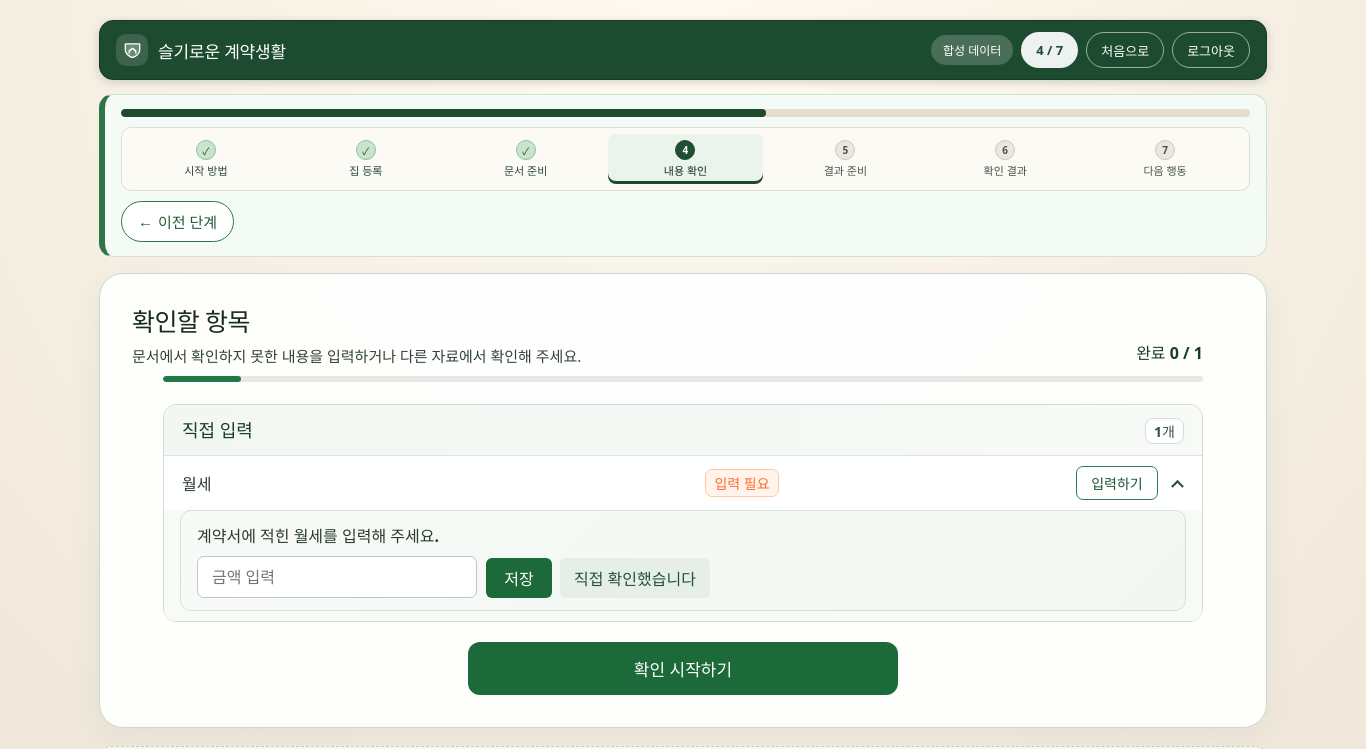
Test case: ExtractionReviewPage › lets the user enter an unread value and keeps contract context separate
Check: the button "월세 입력 필요 입력하기" is shown, box [164, 456, 1202, 510]
Check: the text "계약서에 적힌 월세를 입력해 주세요." is shown, box [197, 525, 439, 547]
Type "350000" into the field labelled "계약서에 적힌 월세를 입력해 주세요." at (337, 577), box [197, 556, 477, 598]
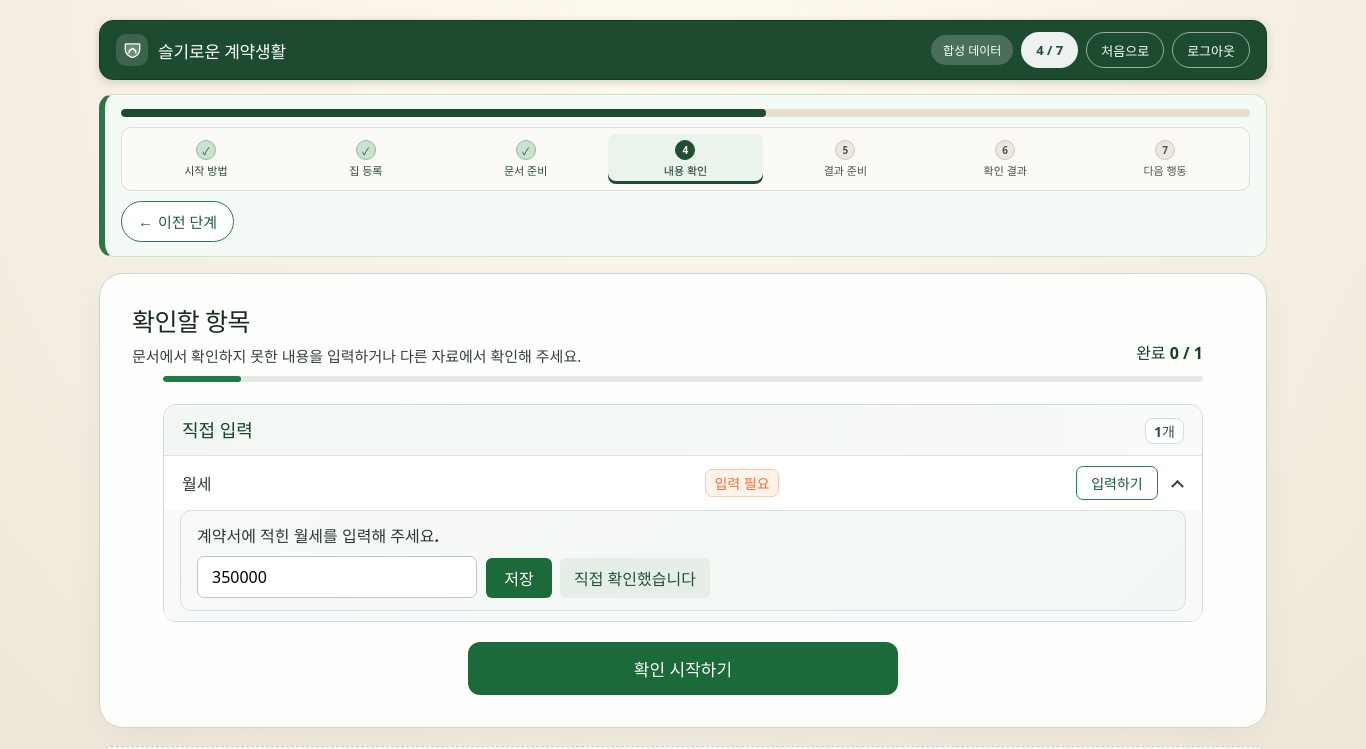
Click the button "직접 확인했습니다" at (635, 578), box [560, 558, 710, 598]
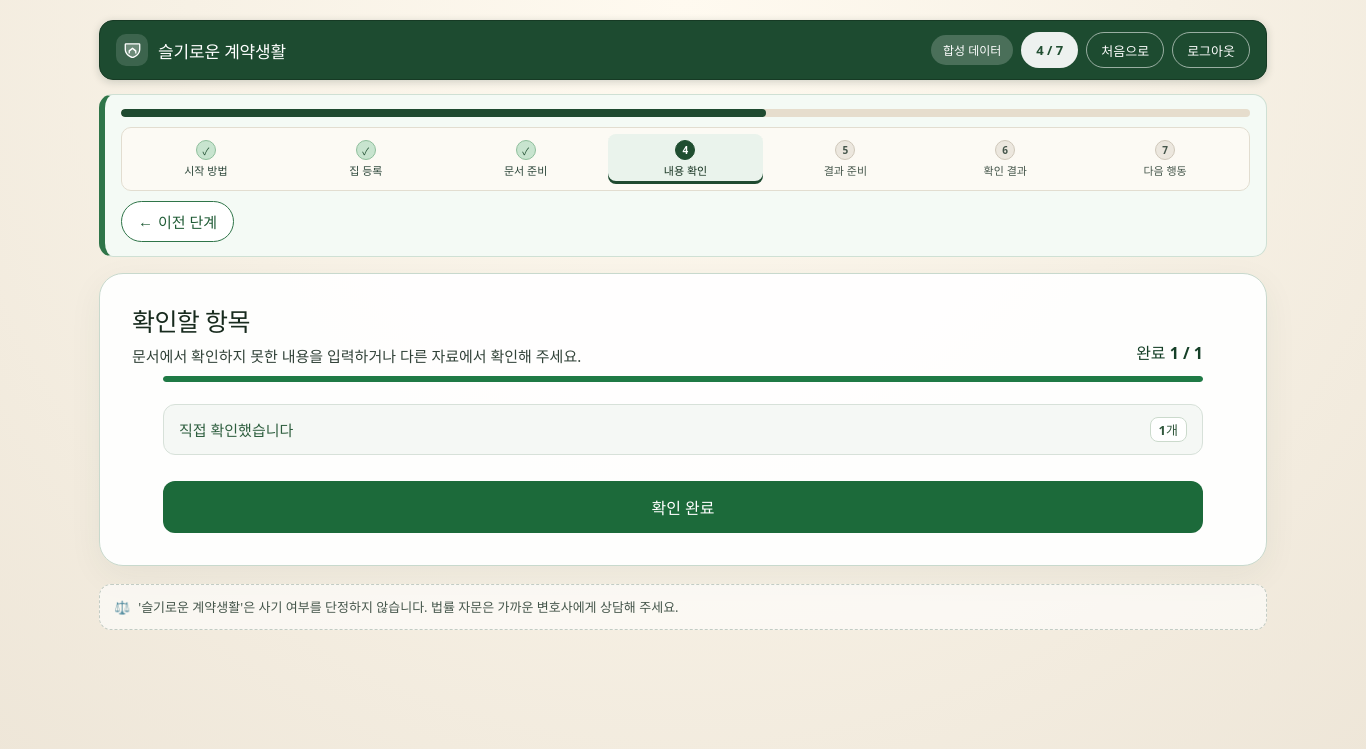
Check: the text "직접 확인했습니다" is shown, box [179, 419, 293, 440]
Check: the button "확인 완료" is enabled
Click the button "확인 완료" at (683, 507), box [163, 481, 1203, 533]
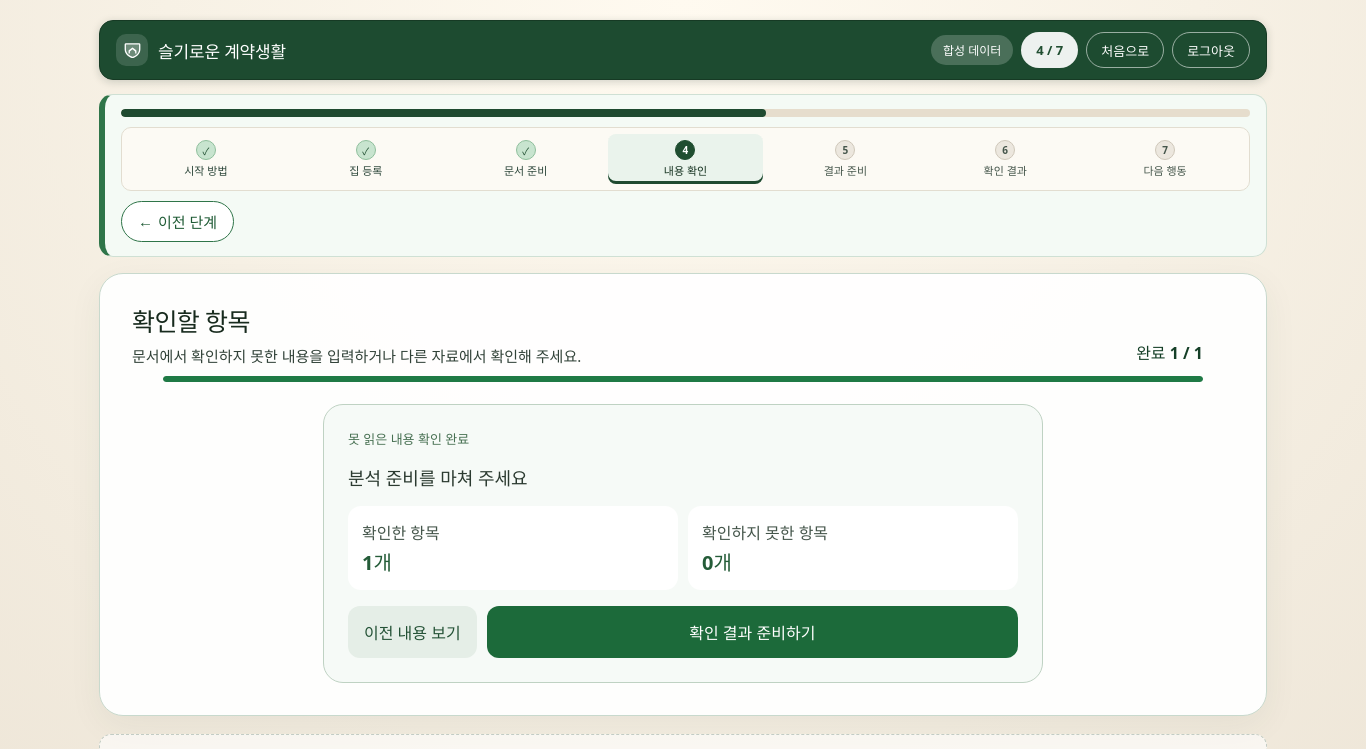
Check: the heading "분석 준비를 마쳐 주세요" is shown, box [348, 466, 528, 490]
Check: the button "확인 결과 준비하기" is enabled, box [487, 606, 1018, 658]
